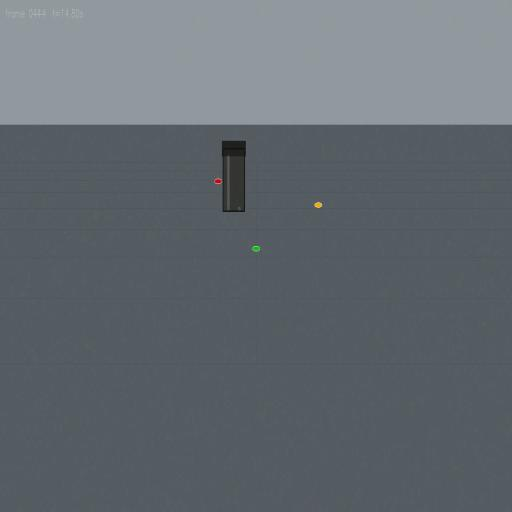bin: (222, 140, 246, 213)
